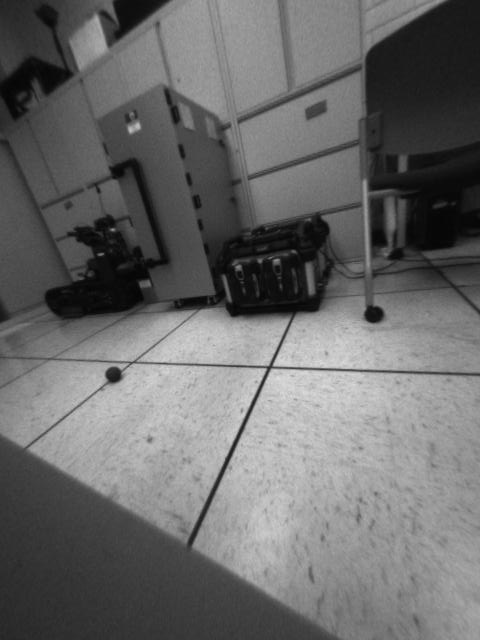dogtoy: (101, 358, 129, 390)
